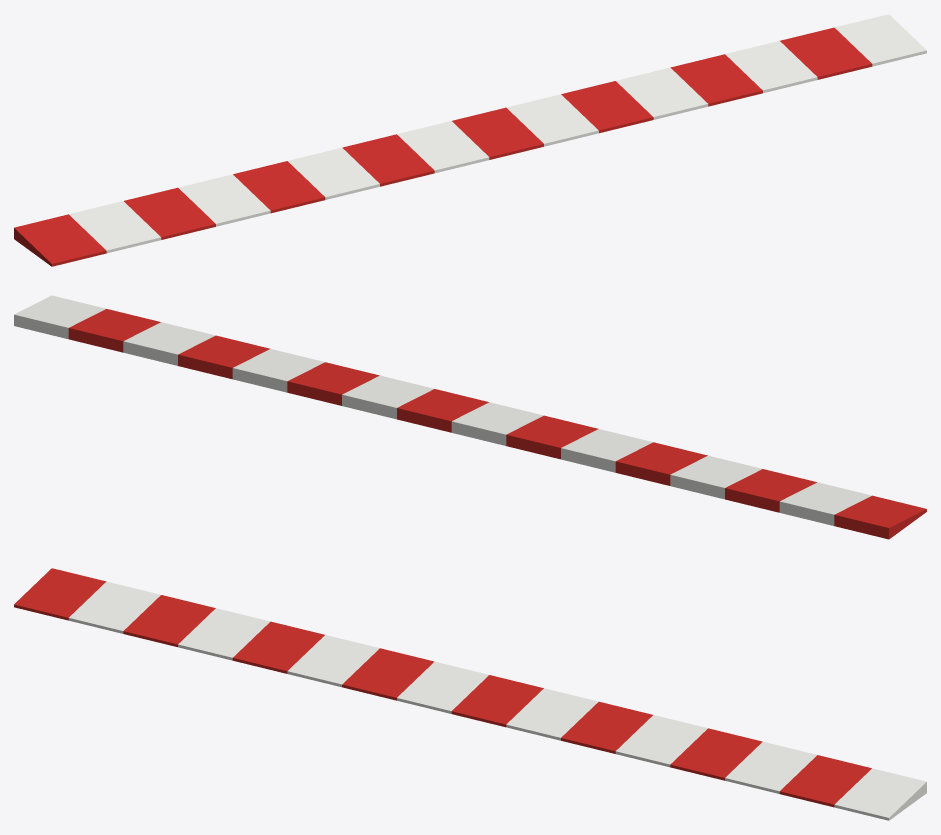
The model's file is RedWhiteApex.glb.
3 views of the same model, one above another, from view 1: azimuth 30°, elevation 25°; view 2: azimuth 150°, elevation 25°; view 3: azimuth 330°, elevation 25° (orthographic).
Parts seen in each view (by area): view 1: Kerb_01_Red, Kerb_07_Red, Kerb_10_White, Kerb_12_White, Kerb_08_White, Kerb_13_Red, Kerb_15_Red, Kerb_11_Red, Kerb_09_Red, Kerb_04_White, Kerb_05_Red, Kerb_14_White (+4 smaller); view 2: Kerb_01_Red, Kerb_08_White, Kerb_12_White, Kerb_05_Red, Kerb_14_White, Kerb_09_Red, Kerb_11_Red, Kerb_16_White, Kerb_03_Red, Kerb_04_White, Kerb_06_White, Kerb_02_White (+4 smaller); view 3: Kerb_16_White, Kerb_07_Red, Kerb_10_White, Kerb_05_Red, Kerb_02_White, Kerb_04_White, Kerb_09_Red, Kerb_06_White, Kerb_08_White, Kerb_03_Red, Kerb_12_White, Kerb_13_Red (+4 smaller).
Part boxes in pixels (left/top/right/bottom): Kerb_01_Red: left=14, top=214, right=106, bottom=266; Kerb_07_Red: left=342, top=134, right=434, bottom=186; Kerb_10_White: left=506, top=94, right=598, bottom=146; Kerb_12_White: left=616, top=67, right=708, bottom=119; Kerb_08_White: left=397, top=121, right=489, bottom=173; Kerb_13_Red: left=670, top=54, right=762, bottom=106; Kerb_15_Red: left=780, top=27, right=872, bottom=79; Kerb_11_Red: left=561, top=81, right=653, bottom=133; Kerb_09_Red: left=452, top=107, right=543, bottom=159; Kerb_04_White: left=178, top=174, right=270, bottom=226; Kerb_05_Red: left=233, top=161, right=325, bottom=213; Kerb_14_White: left=725, top=41, right=817, bottom=93; Kerb_01_Red: left=834, top=495, right=926, bottom=539; Kerb_08_White: left=451, top=402, right=543, bottom=445; Kerb_12_White: left=232, top=349, right=324, bottom=392; Kerb_05_Red: left=615, top=442, right=707, bottom=485; Kerb_14_White: left=123, top=322, right=215, bottom=365; Kerb_09_Red: left=397, top=389, right=488, bottom=432; Kerb_11_Red: left=287, top=362, right=379, bottom=405; Kerb_16_White: left=14, top=295, right=105, bottom=339; Kerb_03_Red: left=725, top=469, right=816, bottom=512; Kerb_04_White: left=670, top=455, right=762, bottom=499; Kerb_06_White: left=561, top=429, right=652, bottom=472; Kerb_02_White: left=779, top=482, right=871, bottom=525; Kerb_16_White: left=834, top=768, right=926, bottom=820; Kerb_07_Red: left=342, top=648, right=434, bottom=700; Kerb_10_White: left=506, top=688, right=598, bottom=740; Kerb_05_Red: left=232, top=621, right=324, bottom=673; Kerb_02_White: left=68, top=581, right=160, bottom=633; Kerb_04_White: left=178, top=608, right=270, bottom=660; Kerb_09_Red: left=451, top=675, right=543, bottom=727; Kerb_06_White: left=287, top=635, right=379, bottom=687; Kerb_08_White: left=397, top=661, right=488, bottom=713; Kerb_03_Red: left=123, top=595, right=215, bottom=647; Kerb_12_White: left=615, top=715, right=707, bottom=767; Kerb_13_Red: left=670, top=728, right=762, bottom=780.
Size of the model in its own units: 8 by 0.1 by 0.6.
